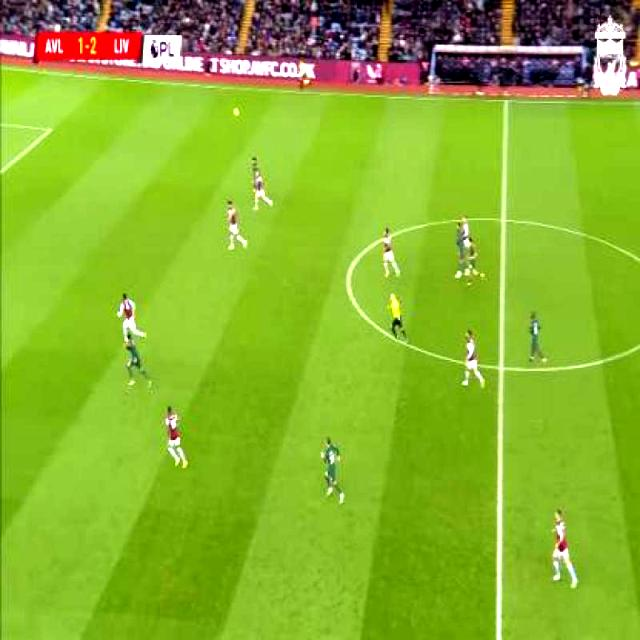bigarea_top_inner: (43, 122, 57, 138)
halfcircle_bottom: (492, 351, 511, 383)
halfcircle_top: (496, 208, 512, 232)
midline_top_intersection: (497, 86, 517, 117)
